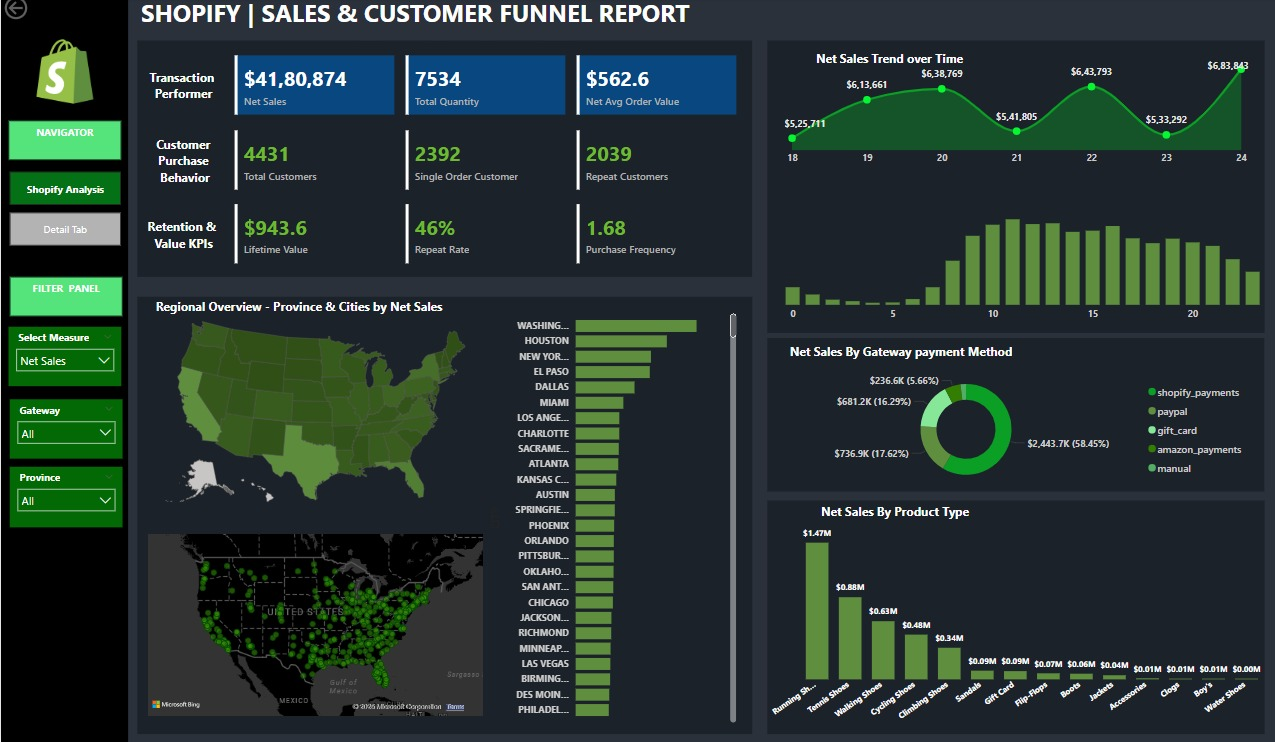

What the dashboard file says about the page in this screenshot:
{"tool":"powerbi","page":{"name":" Shopify Analysis","canvas":[1700,1000],"ordinal":0},"visuals":[{"type":"shape","box":[0,0,169.5,1000.5],"z":0},{"type":"textbox","box":[182.2,0,761.8,63.8],"z":1000},{"type":"shape","box":[182.2,63.8,820.1,315.3],"z":2000},{"type":"cardVisual","fields":{"Data":["shopify_sales.Net Sales","shopify_sales.Total Quantity","shopify_sales.Net Avg Order Value"]},"box":[306.2,78.4,679.8,89.3],"z":3000},{"type":"card","fields":{"Values":["shopify_sales.Transaction performer"]},"box":[182.2,78.4,123.9,89.3],"z":4000},{"type":"cardVisual","fields":{"Data":["shopify_sales.Total Customers","shopify_sales.Single Order Customer","shopify_sales.Repeat Customers"]},"box":[306.8,177.6,679.4,89.5],"z":5000},{"type":"card","fields":{"Values":["shopify_sales.Customer purchase behaviour"]},"box":[182.6,177.2,124.2,87.7],"z":6000},{"type":"cardVisual","fields":{"Data":["shopify_sales.Lifetime Value","shopify_sales.Repeat Rate","shopify_sales.Purchase Frequency"]},"box":[306.2,277,679.8,89.3],"z":7000},{"type":"card","fields":{"Values":["shopify_sales.Retention & Value KPIs"]},"box":[182.2,278.8,123.9,87.5],"z":8000},{"type":"shape","box":[182.2,404.6,820.1,583.2],"z":9000},{"type":"shapeMap","fields":{"Value":["shopify_sales.Net Sales"],"Category":["shopify_sales.Billing Address Province"]},"box":[191.4,419.2,455.6,277],"z":10000},{"type":"slicer","fields":{"Values":["Select Measure.Select Measure"]},"box":[9.4,445.8,150.5,79],"z":11000},{"type":"map","fields":{"Category":["shopify_sales.Location"]},"box":[191.4,716.2,455.6,251.5],"z":12000},{"type":"actionButton","box":[0,0,100,40],"z":13000},{"type":"clusteredBarChart","fields":{"Y":["shopify_sales.Net Sales"],"Category":["shopify_sales.CITY"]},"box":[647,415.5,339,563.1],"z":14000},{"type":"card","fields":{"Values":["shopify_sales.Map TAitle"]},"box":[182.2,393.7,431.9,52.9],"z":15000},{"type":"shape","box":[1022.4,63.8,663.4,390],"z":16000},{"type":"areaChart","fields":{"Y":["shopify_sales.Net Sales"],"Category":["shopify_sales.Invoice Date.Variation.Date Hierarchy.Day"]},"box":[1040.6,78.4,628.8,160.4],"z":17000},{"type":"image","box":[21.9,56.5,127.6,96.6],"z":18000},{"type":"columnChart","fields":{"Y":["shopify_sales.Net Sales"],"Category":["shopify_sales.Hour"]},"box":[1040.6,258.8,645.2,187.7],"z":19000},{"type":"card","fields":{"Values":["shopify_sales.Trend Title"]},"box":[1040.6,71.1,289.8,34.6],"z":20000},{"type":"shape","box":[1022.4,459.3,663.4,205],"z":21000},{"type":"donutChart","fields":{"Y":["shopify_sales.Net Sales"],"Category":["shopify_sales.Gateway"]},"box":[1040.6,499.4,628.8,164],"z":22000},{"type":"card","fields":{"Values":["shopify_sales.Gateway Title"]},"box":[1022.4,459.3,357.2,40.1],"z":23000},{"type":"shape","box":[1022.4,676.1,663.4,311.6],"z":24000},{"type":"columnChart","fields":{"Y":["shopify_sales.Net Sales"],"Category":["shopify_sales.Product Type"]},"box":[1022.4,692.5,678,286.1],"z":25000},{"type":"card","fields":{"Values":["shopify_sales.Product Title"]},"box":[1022.4,672.5,340.8,43.7],"z":26000},{"type":"slicer","fields":{"Values":["shopify_sales.Gateway"]},"box":[11.3,541.7,150.5,79],"z":27000},{"type":"slicer","fields":{"Values":["shopify_sales.Billing Address Province"]},"box":[11.3,632,150.5,80.9],"z":28000},{"type":"pageNavigator","box":[11.3,238.9,148.6,99.7],"z":28001},{"type":"textbox","box":[11.3,378.1,150.5,52.7],"z":28003},{"type":"textbox","box":[9.4,169.3,150.5,52.7],"z":28004}]}

Visuals, with their boxes on the page's 1700x1000 design canvas (x1, y1, x2, y2). These are canvas units, not pixel positions in the 1275x742 screenshot, which may show the page scaled, cropped or inside an application window:
shape: [x1=0, y1=0, x2=170, y2=1000]
textbox: [x1=182, y1=0, x2=944, y2=64]
shape: [x1=182, y1=64, x2=1002, y2=379]
cardVisual - shopify_sales.Net Sales x shopify_sales.Total Quantity: [x1=306, y1=78, x2=986, y2=168]
card - shopify_sales.Transaction performer: [x1=182, y1=78, x2=306, y2=168]
cardVisual - shopify_sales.Total Customers x shopify_sales.Single Order Customer: [x1=307, y1=178, x2=986, y2=267]
card - shopify_sales.Customer purchase behaviour: [x1=183, y1=177, x2=307, y2=265]
cardVisual - shopify_sales.Lifetime Value x shopify_sales.Repeat Rate: [x1=306, y1=277, x2=986, y2=366]
card - shopify_sales.Retention & Value KPIs: [x1=182, y1=279, x2=306, y2=366]
shape: [x1=182, y1=405, x2=1002, y2=988]
shapeMap - shopify_sales.Net Sales x shopify_sales.Billing Address Province: [x1=191, y1=419, x2=647, y2=696]
slicer - Select Measure.Select Measure: [x1=9, y1=446, x2=160, y2=525]
map - shopify_sales.Location: [x1=191, y1=716, x2=647, y2=968]
actionButton: [x1=0, y1=0, x2=100, y2=40]
clusteredBarChart - shopify_sales.Net Sales x shopify_sales.CITY: [x1=647, y1=416, x2=986, y2=979]
card - shopify_sales.Map TAitle: [x1=182, y1=394, x2=614, y2=447]
shape: [x1=1022, y1=64, x2=1686, y2=454]
areaChart - shopify_sales.Net Sales x shopify_sales.Invoice Date.Variation.Date Hierarchy.Day: [x1=1041, y1=78, x2=1669, y2=239]
image: [x1=22, y1=56, x2=150, y2=153]
columnChart - shopify_sales.Net Sales x shopify_sales.Hour: [x1=1041, y1=259, x2=1686, y2=446]
card - shopify_sales.Trend Title: [x1=1041, y1=71, x2=1330, y2=106]
shape: [x1=1022, y1=459, x2=1686, y2=664]
donutChart - shopify_sales.Net Sales x shopify_sales.Gateway: [x1=1041, y1=499, x2=1669, y2=663]
card - shopify_sales.Gateway Title: [x1=1022, y1=459, x2=1380, y2=499]
shape: [x1=1022, y1=676, x2=1686, y2=988]
columnChart - shopify_sales.Net Sales x shopify_sales.Product Type: [x1=1022, y1=692, x2=1700, y2=979]
card - shopify_sales.Product Title: [x1=1022, y1=672, x2=1363, y2=716]
slicer - shopify_sales.Gateway: [x1=11, y1=542, x2=162, y2=621]
slicer - shopify_sales.Billing Address Province: [x1=11, y1=632, x2=162, y2=713]
pageNavigator: [x1=11, y1=239, x2=160, y2=339]
textbox: [x1=11, y1=378, x2=162, y2=431]
textbox: [x1=9, y1=169, x2=160, y2=222]
